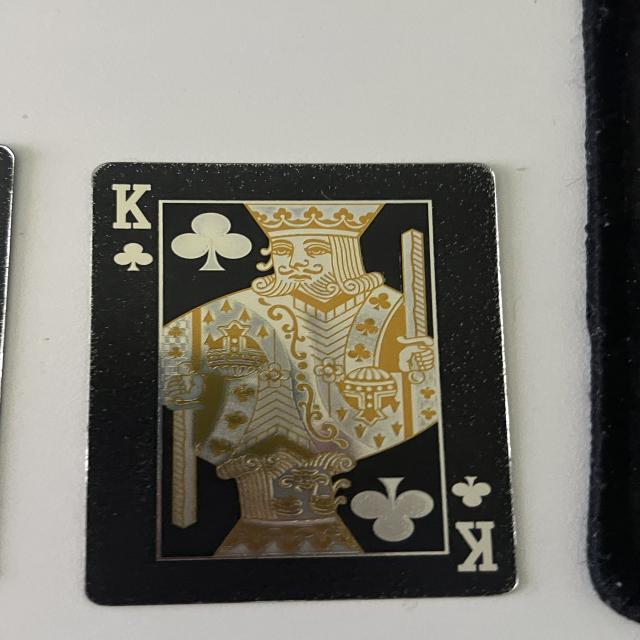KC: (438, 469, 510, 582), (102, 174, 158, 276)
